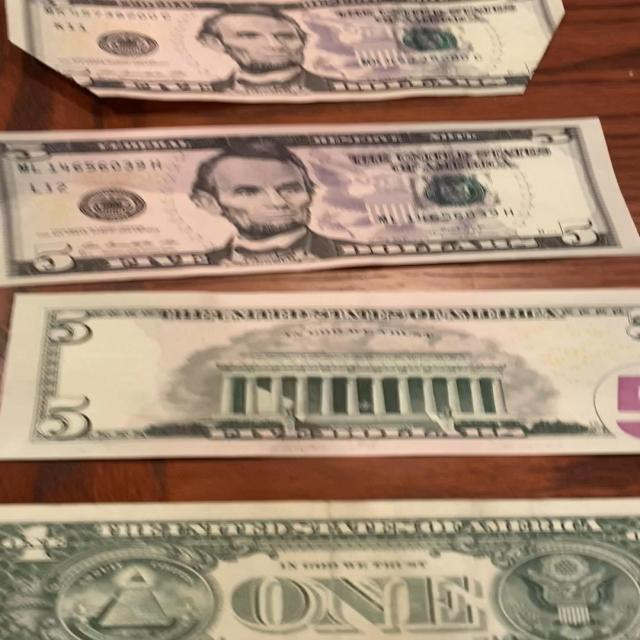1-Back: (0, 501, 640, 640)
5-Back: (0, 290, 640, 459)
5-Front: (0, 117, 640, 287), (3, 0, 566, 103)
